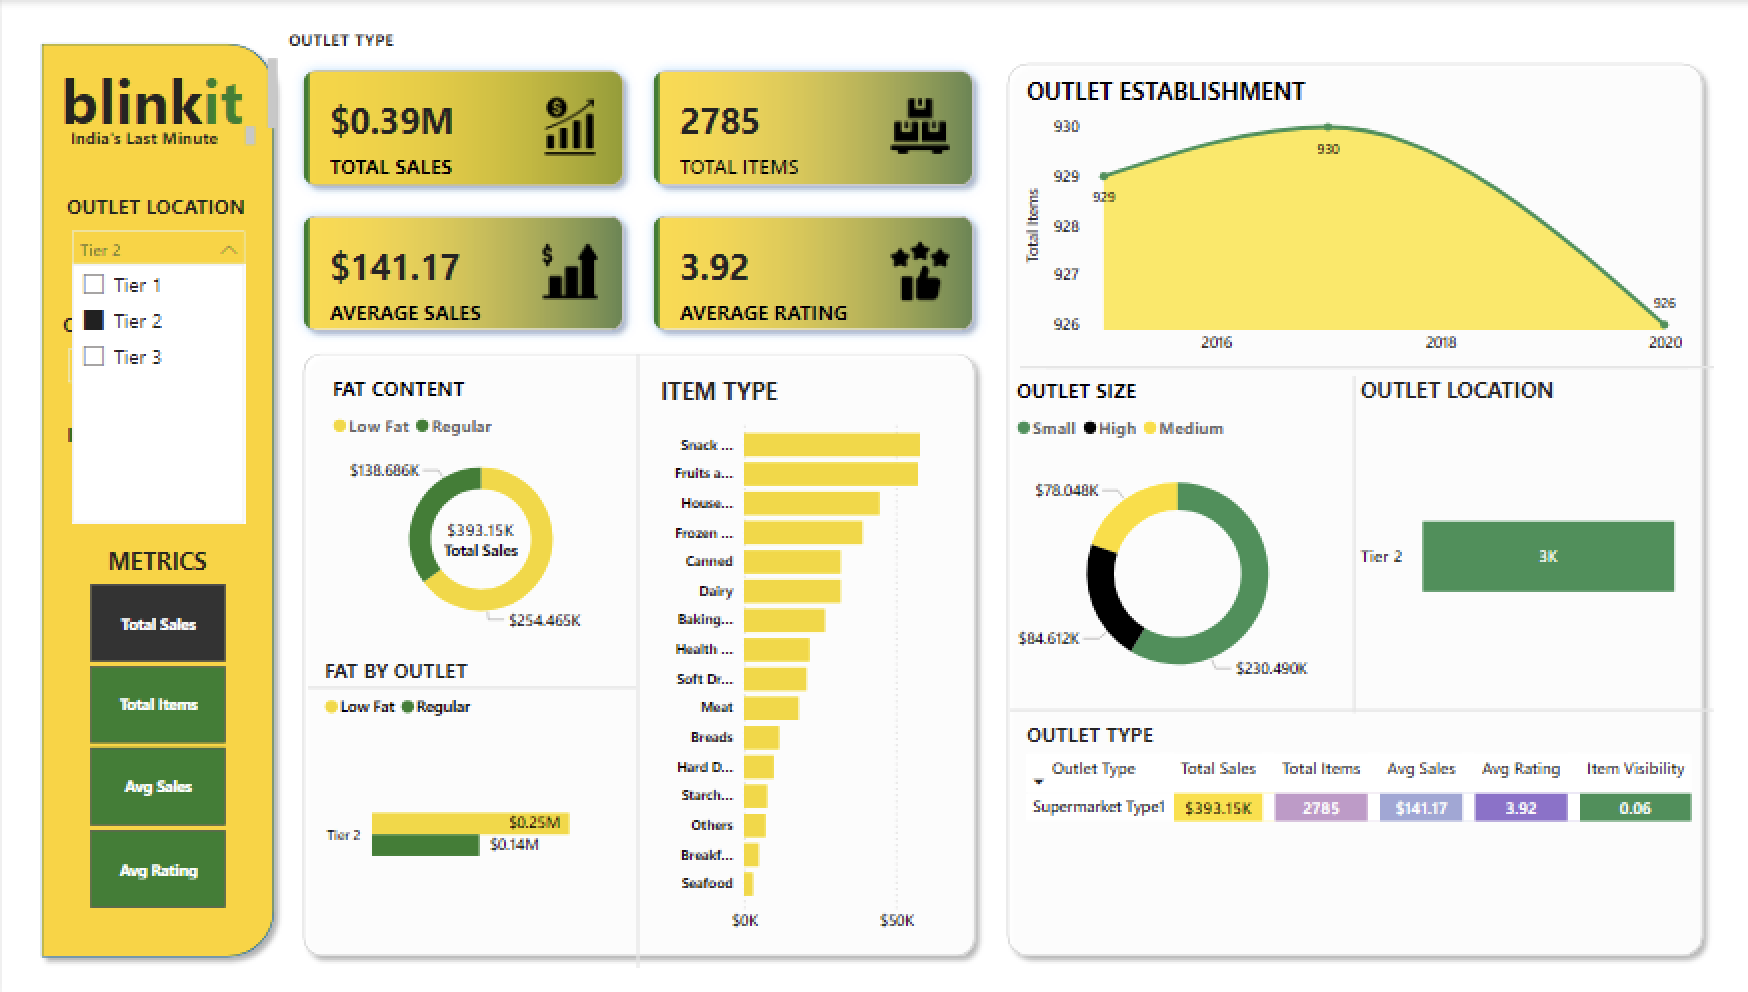

The dashboard page shown, as its layout file describes it:
{"tool":"powerbi","page":{"name":"Dashboard","canvas":[1400,800],"ordinal":0},"visuals":[{"type":"shape","box":[22.7,25.2,204.3,749.2],"z":0},{"type":"textbox","box":[22.4,41.6,203.2,70.4],"z":1000},{"type":"textbox","box":[49.6,96,158.4,30.4],"z":2000},{"type":"cardVisual","title":"OUTLET TYPE","fields":{"Data":["BlinkIT Grocery Data.Total Sales","BlinkIT Grocery Data.Total Items","BlinkIT Grocery Data.Avg Sales","BlinkIT Grocery Data.Avg Rating"]},"box":[224.5,22.8,570.7,260.6],"z":3000},{"type":"shape","box":[232.1,273.9,555.4,500.3],"z":4000},{"type":"donutChart","title":"FAT CONTENT","fields":{"Y":["BlinkIT Grocery Data.Avg Rating"],"Category":["BlinkIT Grocery Data.Item Fat Content"]},"box":[259.2,299.2,248,214.4],"z":5000},{"type":"slicer","title":"METRICS","fields":{"Values":["Metrics.Metrics"]},"box":[44.8,435.2,158.4,297.6],"z":6000},{"type":"cardVisual","fields":{"Data":["BlinkIT Grocery Data.Total Sales"]},"box":[324.8,382.4,116.8,99.2],"z":7000},{"type":"clusteredBarChart","title":"FAT BY OUTLET","fields":{"Y":["BlinkIT Grocery Data.Avg Rating"],"Series":["BlinkIT Grocery Data.Item Fat Content"],"Category":["BlinkIT Grocery Data.Outlet Location Type"]},"box":[252.8,524.8,249.6,230.4],"z":8000},{"type":"shape","box":[245.4,545.9,262.5,9.5],"z":9000},{"type":"shape","box":[502.4,283.2,12.8,491.2],"z":10000},{"type":"clusteredBarChart","title":"ITEM TYPE","fields":{"Y":["BlinkIT Grocery Data.Avg Rating"],"Category":["BlinkIT Grocery Data.Item Type"]},"box":[521.6,299.2,236.8,456],"z":11000},{"type":"shape","box":[795.1,41.8,574.5,732.3],"z":12000},{"type":"lineChart","title":"OUTLET ESTABLISHMENT","fields":{"Category":["BlinkIT Grocery Data.Outlet Establishment Year"],"Y":["BlinkIT Grocery Data.Total Items"]},"box":[814.1,59,534.5,234],"z":13000},{"type":"shape","box":[814.1,283.4,534.5,20.9],"z":14000},{"type":"donutChart","title":"OUTLET SIZE","fields":{"Y":["BlinkIT Grocery Data.Total Sales"],"Category":["BlinkIT Grocery Data.Outlet Size"]},"box":[806.5,300.5,268.2,266.3],"z":15000},{"type":"shape","box":[835.1,283.4,534.5,20.9],"z":16000},{"type":"shape","box":[1074.7,300.5,13.3,270.1],"z":17000},{"type":"funnel","title":"OUTLET LOCATION","fields":{"Y":["BlinkIT Grocery Data.Total Items"],"Category":["BlinkIT Grocery Data.Outlet Location Type"]},"box":[1082.3,298.6,266.3,268.2],"z":18000},{"type":"pivotTable","title":"OUTLET TYPE","fields":{"Rows":["BlinkIT Grocery Data.Outlet Type"],"Values":["BlinkIT Grocery Data.Total Sales","BlinkIT Grocery Data.Total Items","BlinkIT Grocery Data.Avg Sales","BlinkIT Grocery Data.Avg Rating","Avg(BlinkIT Grocery Data.Item Visibility)"]},"box":[814.1,570.7,568.8,203.5],"z":19000},{"type":"shape","box":[806.5,566.8,563,3.8],"z":20000},{"type":"slicer","title":"OUTLET LOCATION","fields":{"Values":["BlinkIT Grocery Data.Outlet Location Type"]},"box":[45.7,154.1,157.9,70.4],"z":20001},{"type":"slicer","title":"OUTLET SIZE","fields":{"Values":["BlinkIT Grocery Data.Outlet Size"]},"box":[43.8,247.3,157.9,70.4],"z":20002},{"type":"slicer","title":"ITEM TYPE","fields":{"Values":["BlinkIT Grocery Data.Item Type"]},"box":[45.7,336.7,157.9,70.4],"z":20003}]}

Visuals, with their boxes in screenshot pixels (x1, y1, x2, y2), scaled from the page's 1400x800 canvas onto the 1748x992 screenshot:
shape: x1=28 y1=31 x2=283 y2=960
textbox: x1=28 y1=52 x2=282 y2=139
textbox: x1=62 y1=119 x2=260 y2=157
"OUTLET TYPE" cardVisual: x1=280 y1=28 x2=993 y2=351
shape: x1=290 y1=340 x2=983 y2=960
"FAT CONTENT" donutChart: x1=324 y1=371 x2=633 y2=637
"METRICS" slicer: x1=56 y1=540 x2=254 y2=909
cardVisual - BlinkIT Grocery Data.Total Sales: x1=406 y1=474 x2=551 y2=597
"FAT BY OUTLET" clusteredBarChart: x1=316 y1=651 x2=627 y2=936
shape: x1=306 y1=677 x2=634 y2=689
shape: x1=627 y1=351 x2=643 y2=960
"ITEM TYPE" clusteredBarChart: x1=651 y1=371 x2=947 y2=936
shape: x1=993 y1=52 x2=1710 y2=960
"OUTLET ESTABLISHMENT" lineChart: x1=1016 y1=73 x2=1684 y2=363
shape: x1=1016 y1=351 x2=1684 y2=377
"OUTLET SIZE" donutChart: x1=1007 y1=373 x2=1342 y2=703
shape: x1=1043 y1=351 x2=1710 y2=377
shape: x1=1342 y1=373 x2=1358 y2=708
"OUTLET LOCATION" funnel: x1=1351 y1=370 x2=1684 y2=703
"OUTLET TYPE" pivotTable: x1=1016 y1=708 x2=1727 y2=960
shape: x1=1007 y1=703 x2=1710 y2=708
"OUTLET LOCATION" slicer: x1=57 y1=191 x2=254 y2=278
"OUTLET SIZE" slicer: x1=55 y1=307 x2=252 y2=394
"ITEM TYPE" slicer: x1=57 y1=418 x2=254 y2=505
